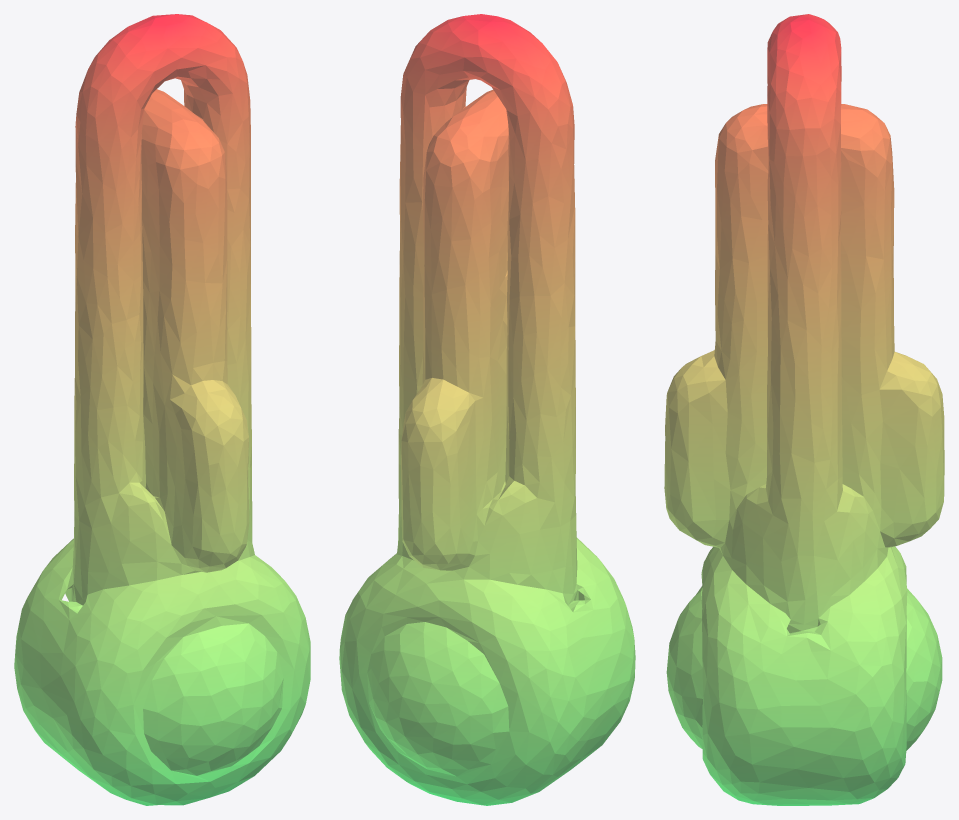
Rendered from 125_cyb_laser_gradient_fish_scales_2786_2026_10_03_5ec60c.glb.
The picture shows the model from 3 angles, left to right: view 1: azimuth 30°, elevation 25°; view 2: azimuth 150°, elevation 25°; view 3: azimuth 270°, elevation 25°; orthographic projection.
Parts seen in each view (by area): view 1: geometry_0; view 2: geometry_0; view 3: geometry_0.
Boxes of the visible parts, box(x1,y1,x2,y2) form: geometry_0: box(14, 14, 310, 805); geometry_0: box(339, 14, 635, 805); geometry_0: box(664, 14, 944, 805).
Size of the model in its own units: 0.3102 by 0.9393 by 0.3099.
